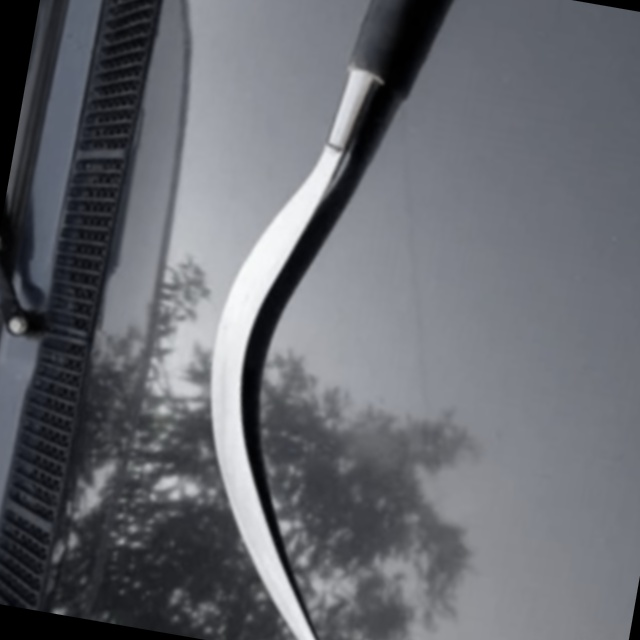Sharp-Object: (159, 0, 522, 640)
